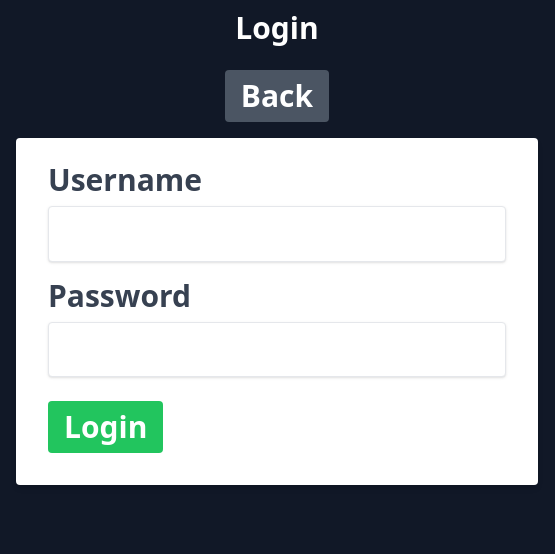
Test: Login Component › should display an error message when login fails
The width and height of the screenshot is (555, 554).
# Fill in login form
Step 1. Type "user" into the field labelled "Username" → [277, 234], box left=48, top=206, right=506, bottom=262
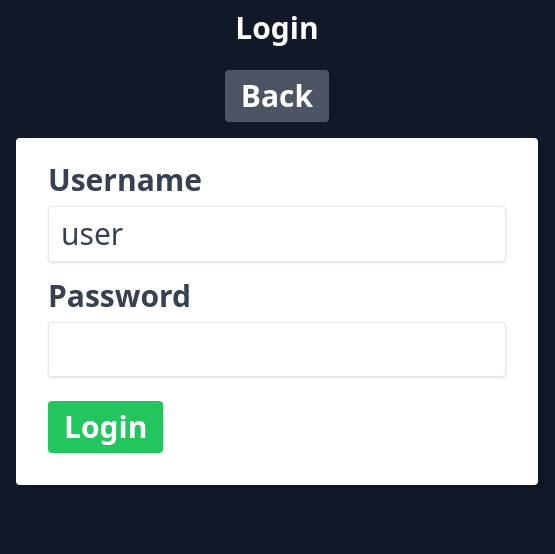
Step 2. Type "password" into the password field labelled "Password" → [277, 349], box left=48, top=322, right=506, bottom=377
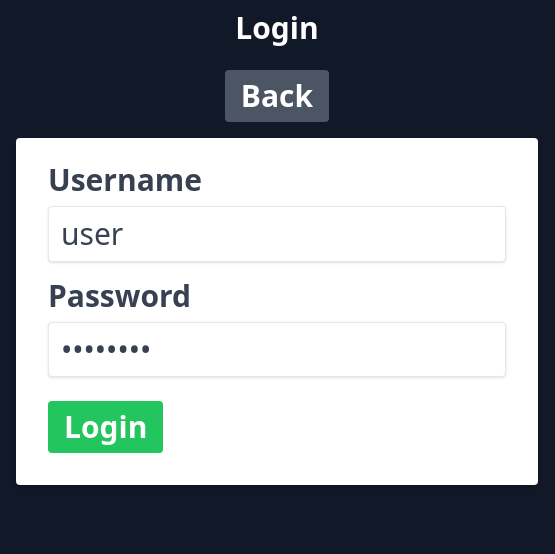
# Simulate the login button click
Step 3. Click the button "Login" → [106, 427], box left=48, top=401, right=163, bottom=453
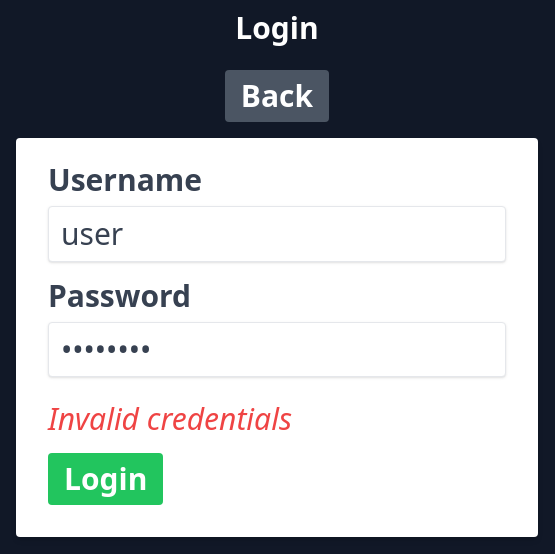
expect the text "Invalid credentials" is shown: met, box left=48, top=398, right=292, bottom=439
